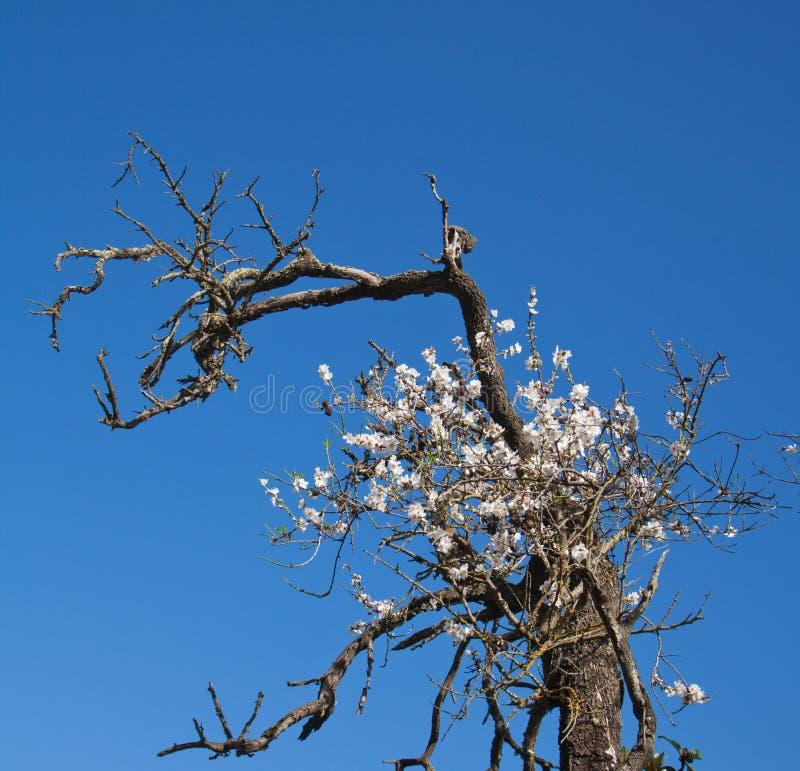branches_drying: (32, 133, 529, 451), (159, 607, 419, 757), (485, 587, 656, 770)
